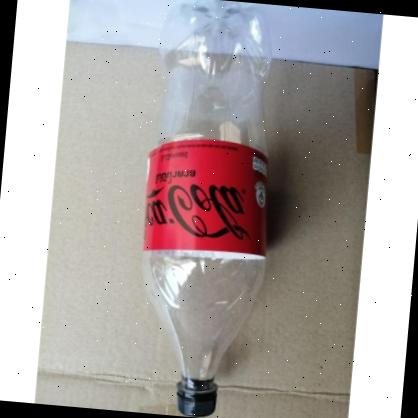bottle: (124, 0, 290, 418)
cap: (171, 380, 222, 418)
label: (140, 132, 280, 268)
